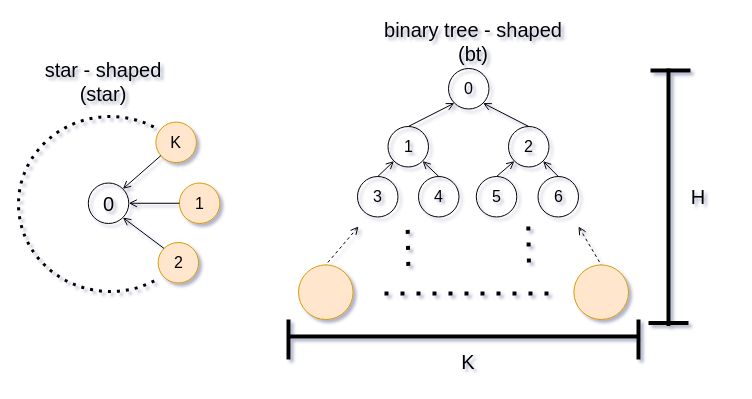
Some shapes in this 752 by 399 pixel diagram are drawn without their labels. Each missing label, with the box of its shape:
2 H -1: (298, 264, 353, 320)
2 H+1 -2: (573, 264, 628, 320)
